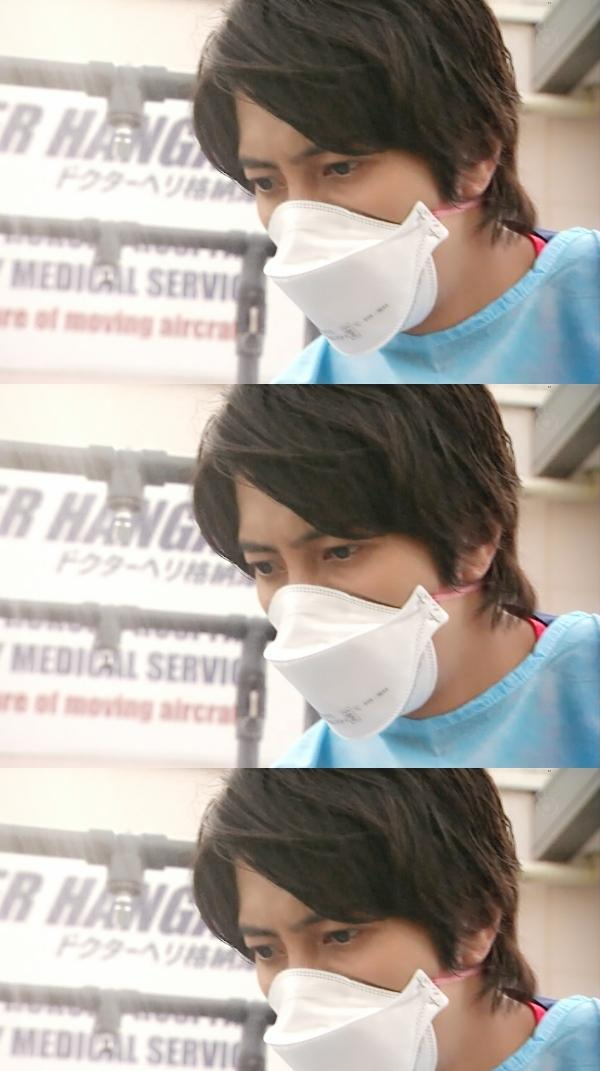OK: (243, 104, 486, 347), (247, 478, 485, 716), (245, 872, 442, 1069)
